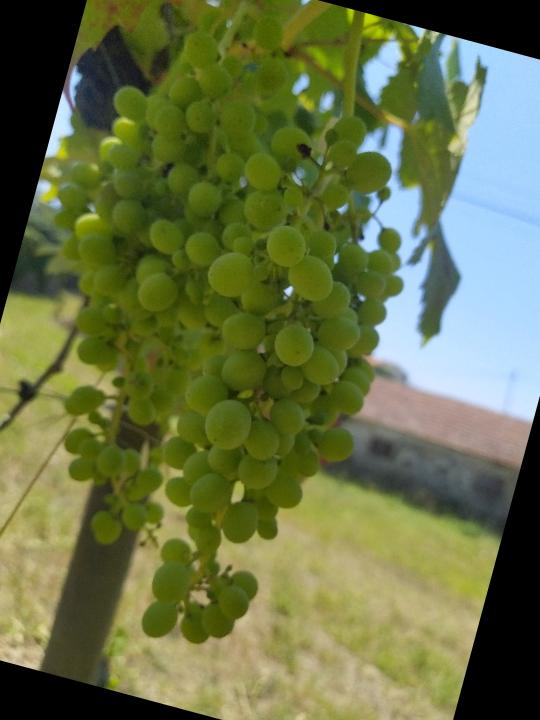grape: (0, 0, 464, 684)
